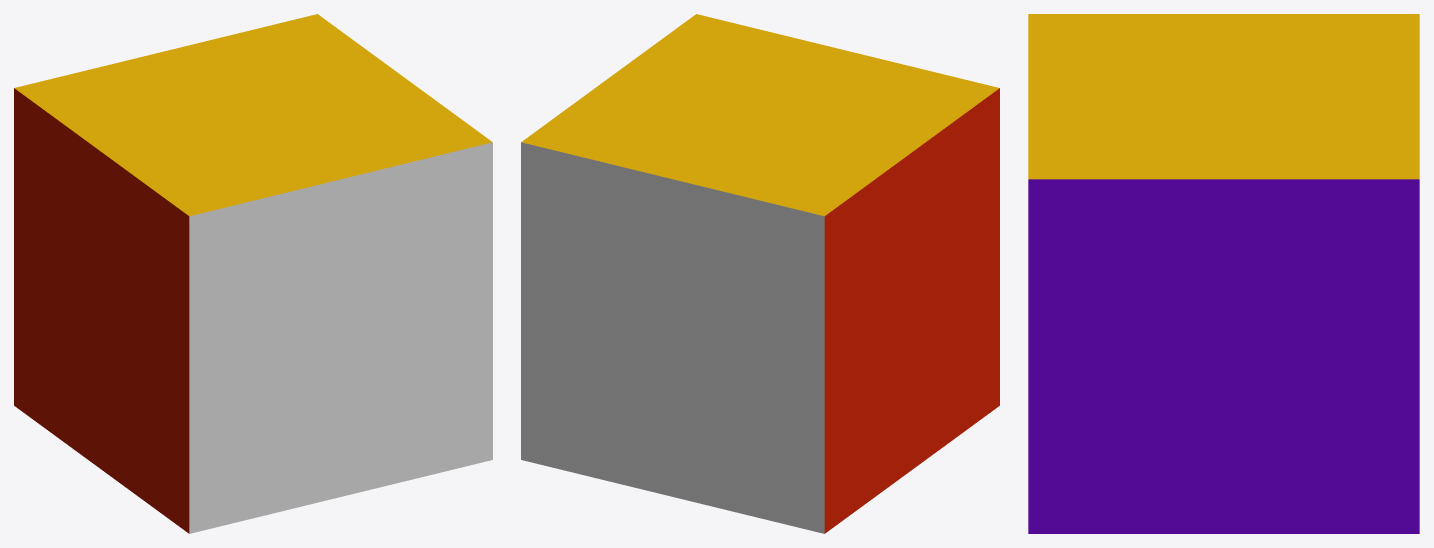
The model's file is cornel_close.fbx.
3 views of the same model, side by side, from view 1: azimuth 30°, elevation 25°; view 2: azimuth 150°, elevation 25°; view 3: azimuth 270°, elevation 25° (orthographic). The views are drawn at different scales.
Parts seen in each view (by area): view 1: down, left, back, Cylinder; view 2: up, left, back; view 3: right, back.
Part boxes in pixels (<box>): down: <box>189,142,492,533</box>; left: <box>14,88,189,533</box>; back: <box>14,14,492,216</box>; Cylinder: <box>226,347,322,451</box>; up: <box>521,142,824,533</box>; left: <box>824,88,999,533</box>; back: <box>521,14,999,216</box>; right: <box>1028,179,1419,533</box>; back: <box>1028,14,1419,179</box>.
Bounding box in the file's own units: 200 × 200 × 200.
